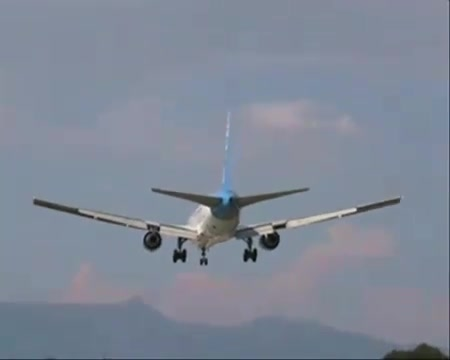aeroplane: (34, 112, 402, 267)
